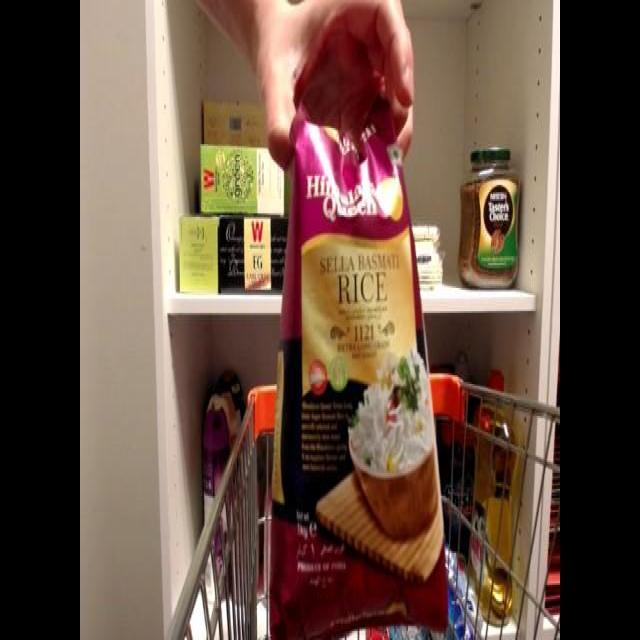Basmati Rice: (266, 90, 432, 637)
